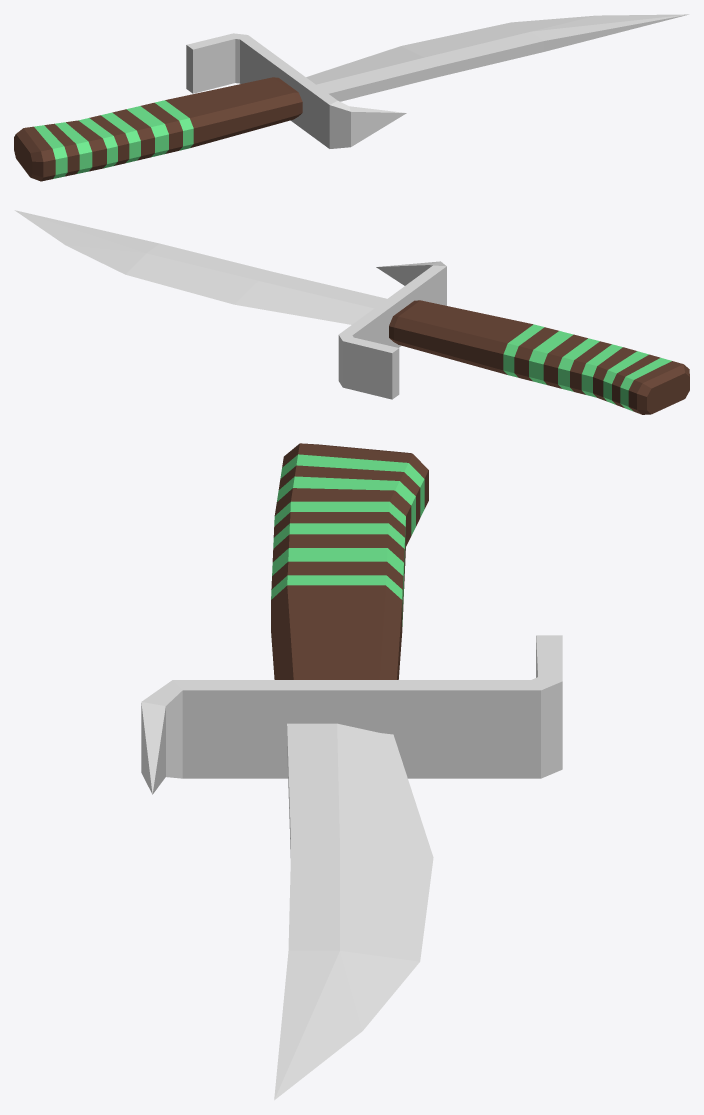
Rendered from Dagger.fbx.
3 renders of one model, top to bottom at view 1: azimuth 30°, elevation 25°; view 2: azimuth 150°, elevation 25°; view 3: azimuth 270°, elevation 25°, orthographic. The views are drawn at different scales.
Visible parts, largest first — view 1: Dagger; view 2: Dagger; view 3: Dagger.
Boxes of the visible parts, <box> form: Dagger: <box>14,14,689,181</box>; Dagger: <box>14,210,689,414</box>; Dagger: <box>141,443,562,1100</box>.
Size of the model in its own units: 0.6125 by 0.0398 by 0.1719.
